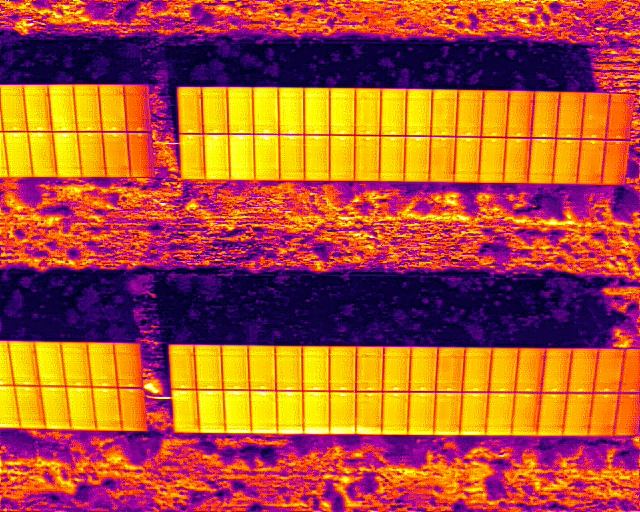photovoltaic_panels: (175, 84, 637, 187), (167, 342, 638, 439), (1, 82, 156, 180), (0, 338, 149, 432)
